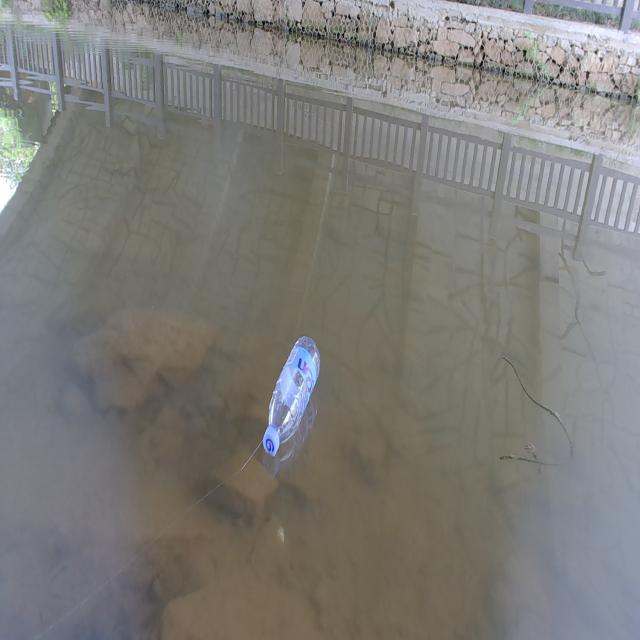Bottle: (260, 331, 321, 457)
